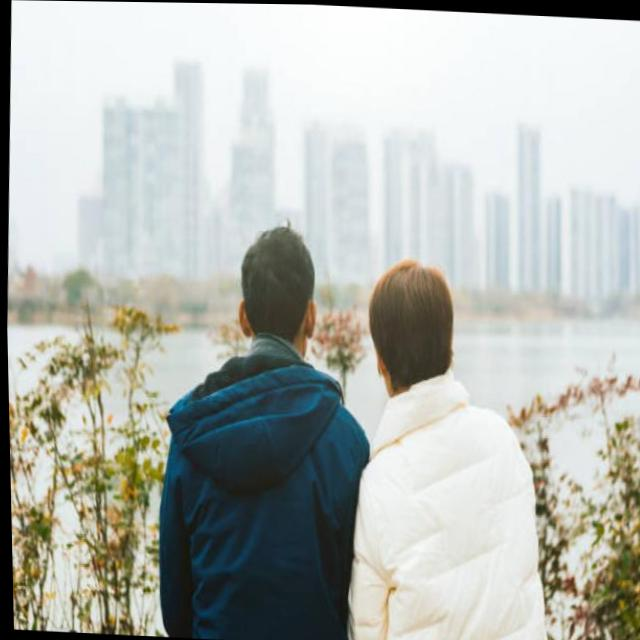no helmet: (363, 256, 455, 394), (234, 219, 319, 358)
